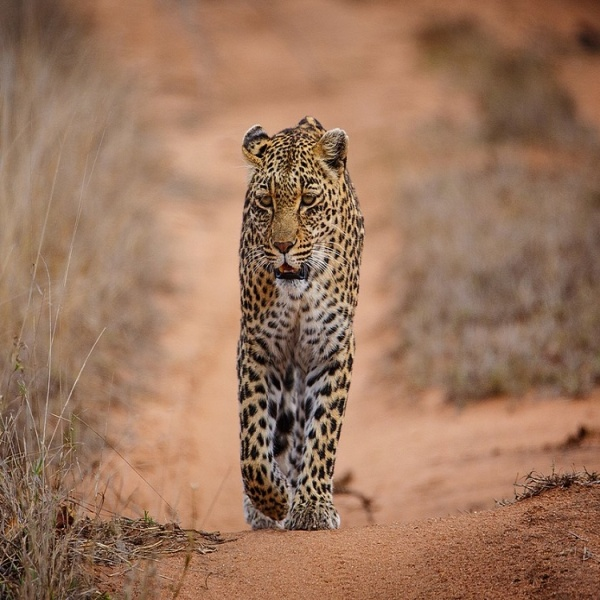Leopard: (233, 112, 370, 538)
